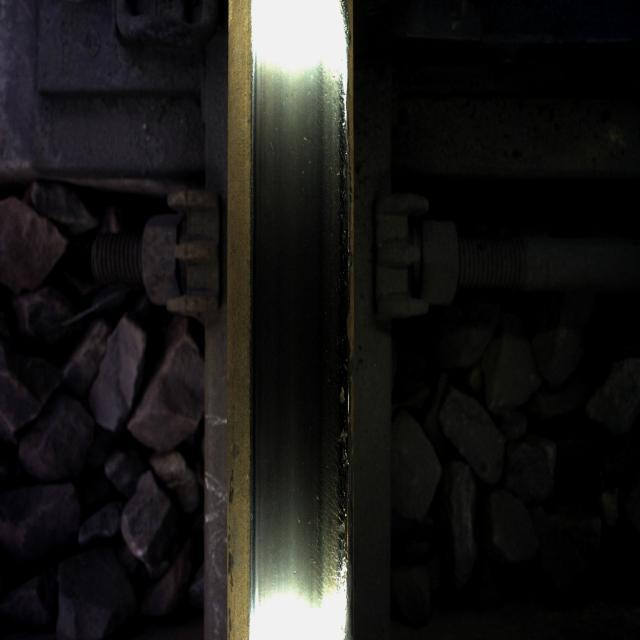normal: (276, 43, 352, 618)
